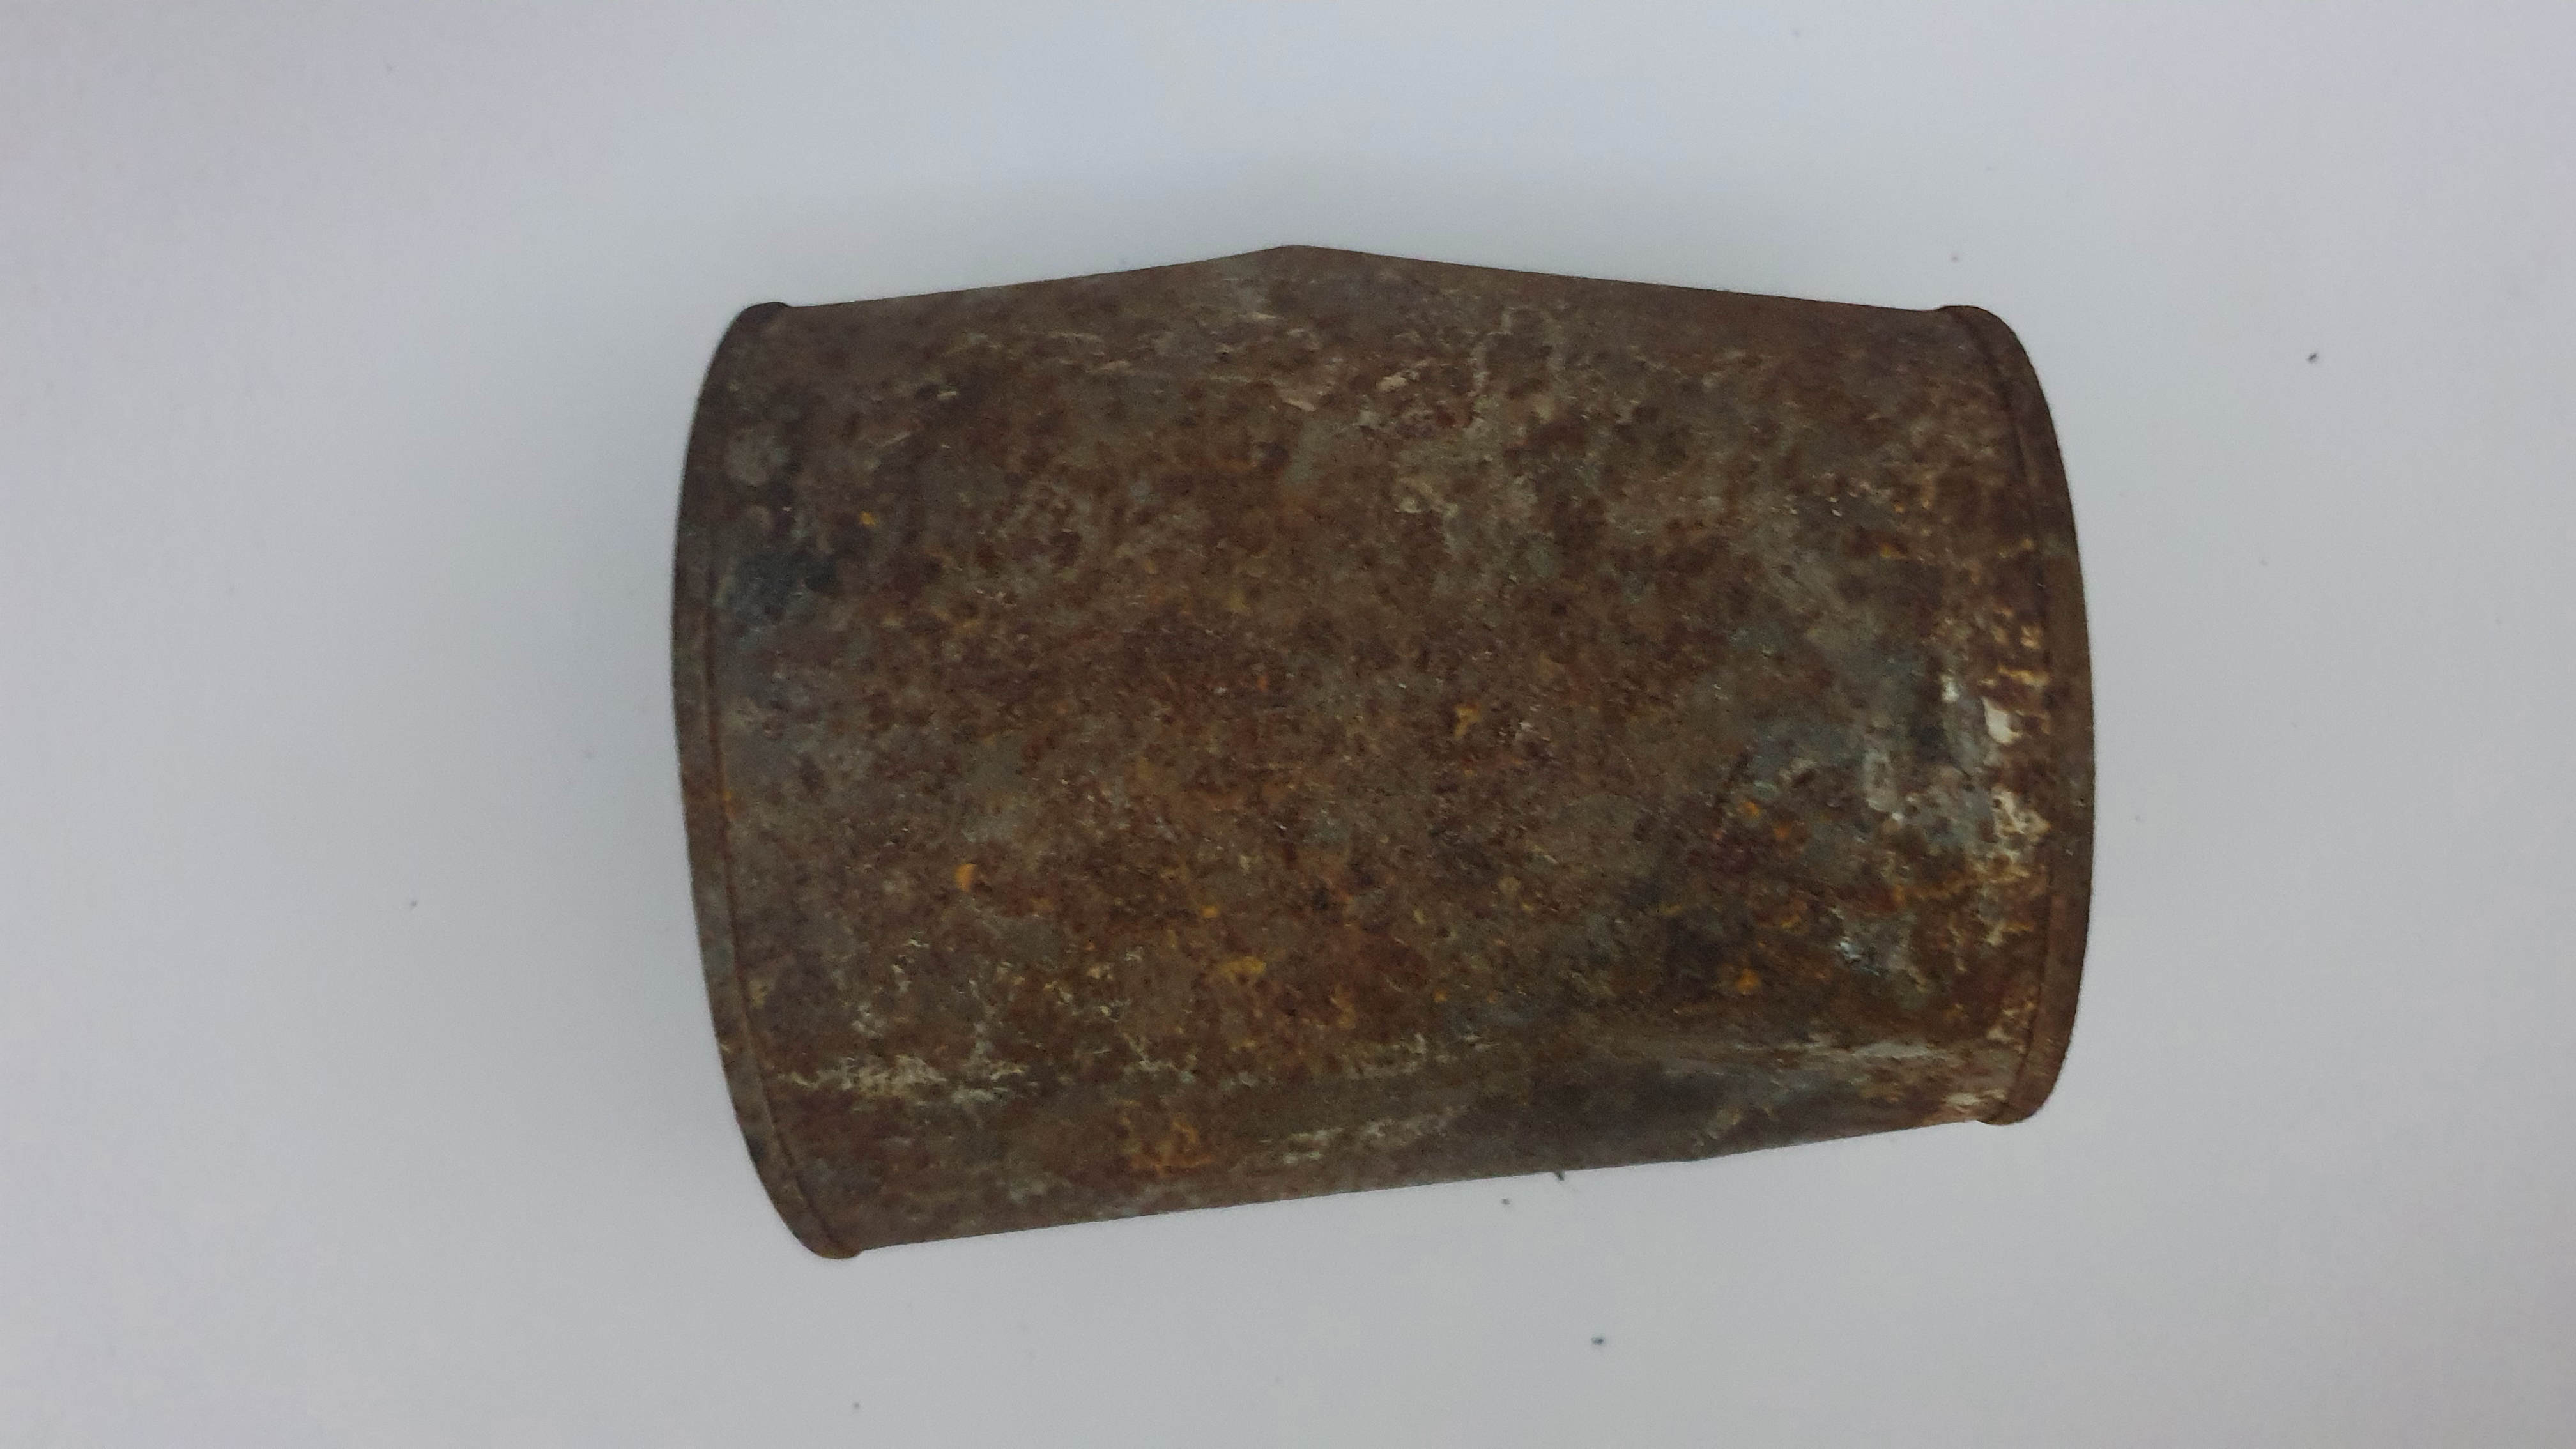metal: (642, 205, 2120, 1286)
